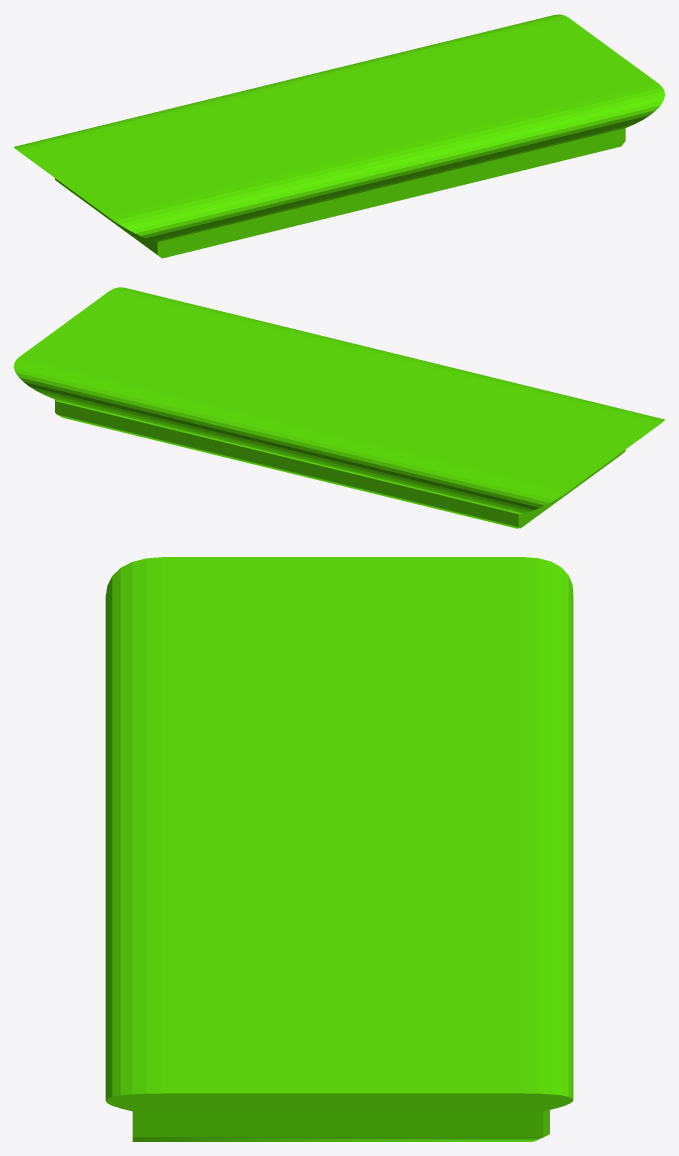
Rendered from repisa2fbx.fbx.
3 views of the same model, one above another, from view 1: azimuth 30°, elevation 25°; view 2: azimuth 150°, elevation 25°; view 3: azimuth 270°, elevation 25° (orthographic). The views are drawn at different scales.
Visible parts, largest first — view 1: CHIMENEA.004; view 2: CHIMENEA.004; view 3: CHIMENEA.004.
Part boxes in pixels (box(x1,y1,x2,y2)): CHIMENEA.004: box(14, 14, 664, 258); CHIMENEA.004: box(14, 287, 664, 528); CHIMENEA.004: box(105, 557, 573, 1141).
Size of the model in its own units: 146 by 11.73 by 53.77.
